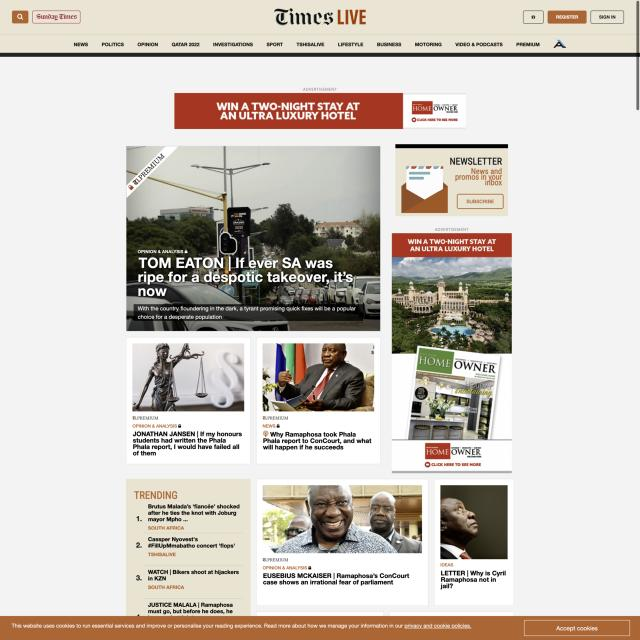logo: (272, 6, 369, 27)
